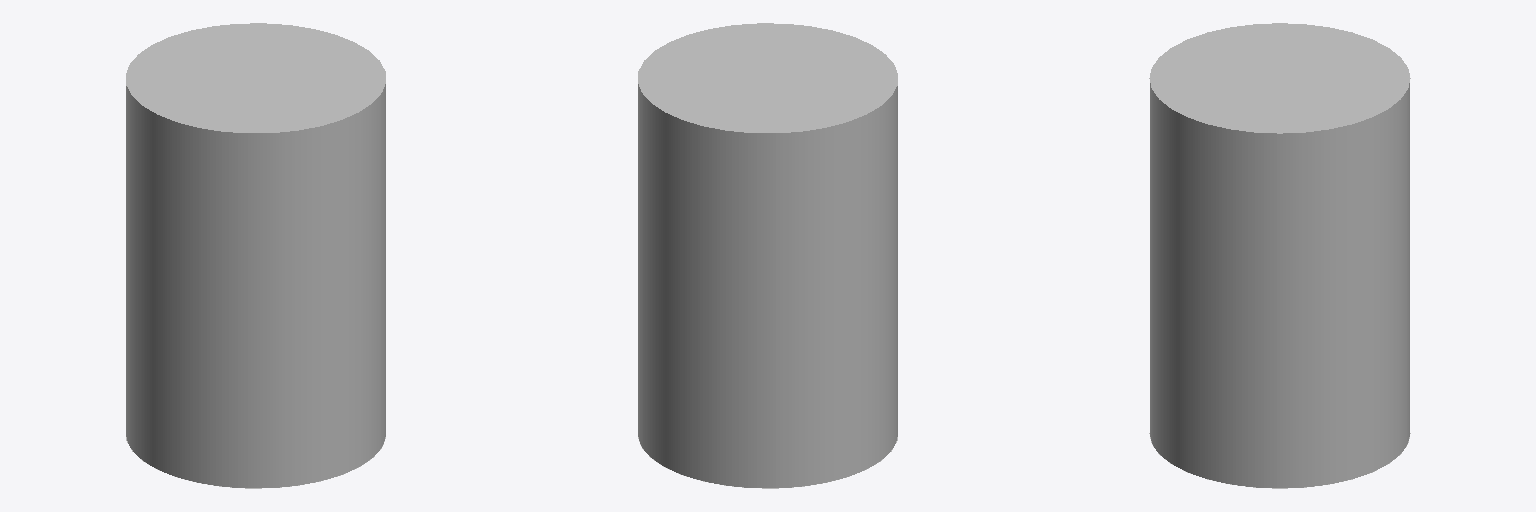
File: barrel.obj
The picture shows the model from 3 angles: view 1: azimuth 30°, elevation 25°; view 2: azimuth 150°, elevation 25°; view 3: azimuth 270°, elevation 25°; orthographic projection.
Visible parts, largest first — view 1: Cylinder, Cylinder.001; view 2: Cylinder, Cylinder.001; view 3: Cylinder, Cylinder.001.
Part boxes in pixels (bbox=[...]): Cylinder: bbox=[126, 84, 385, 487]; Cylinder.001: bbox=[126, 23, 385, 488]; Cylinder: bbox=[638, 84, 897, 487]; Cylinder.001: bbox=[638, 23, 897, 488]; Cylinder: bbox=[1150, 83, 1409, 487]; Cylinder.001: bbox=[1149, 23, 1410, 488].
Bounding box in the file's own units: 2 × 3 × 2.